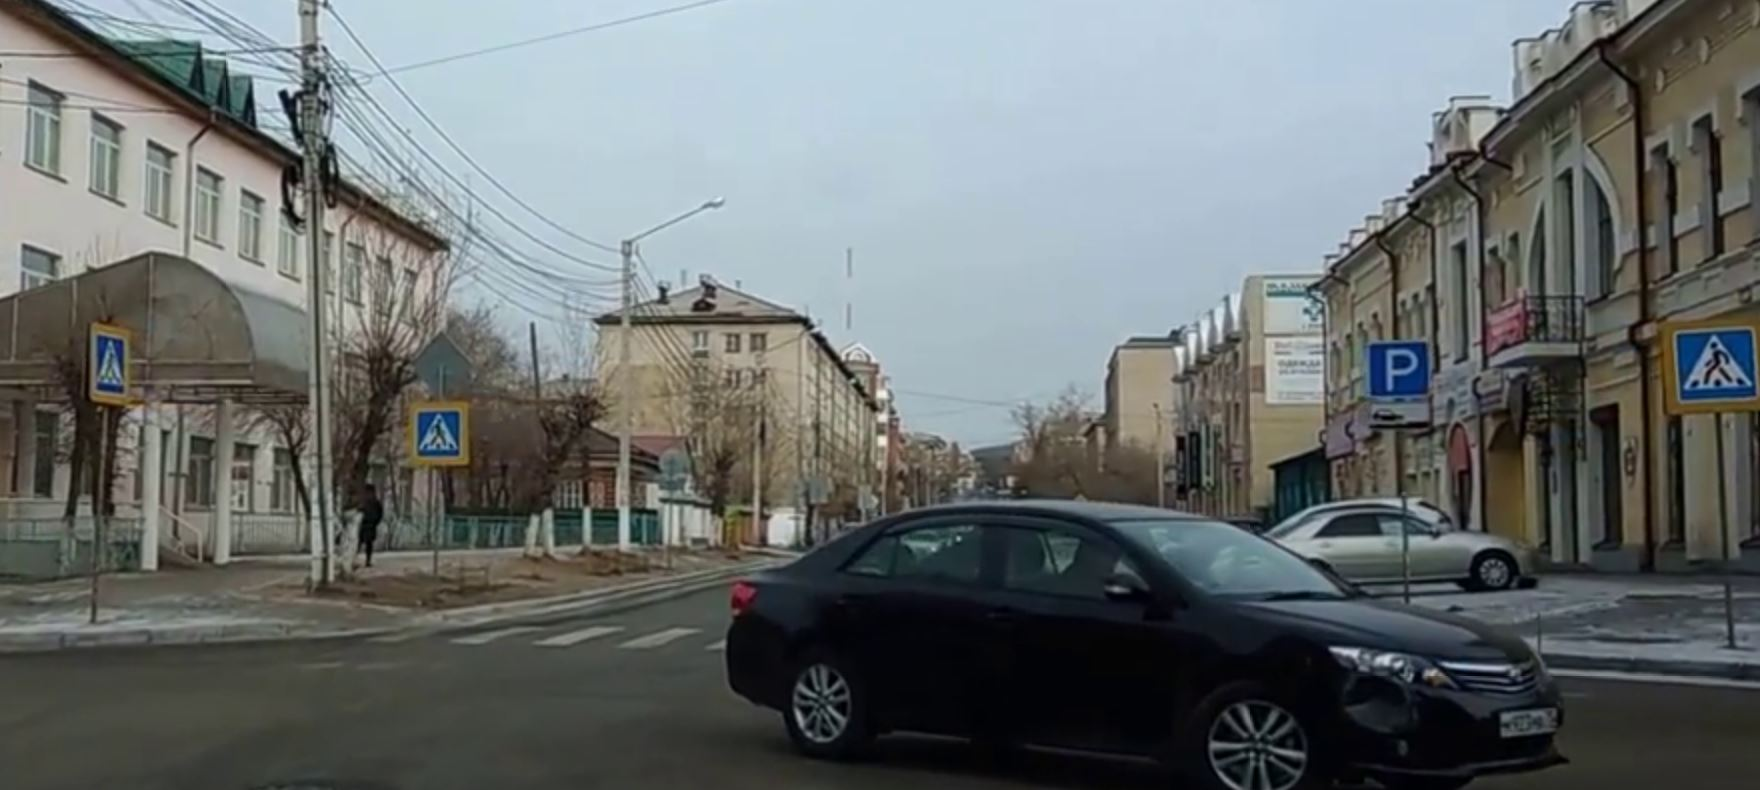Yaya Gecidi: (1683, 335, 1756, 403), (423, 412, 461, 461)
